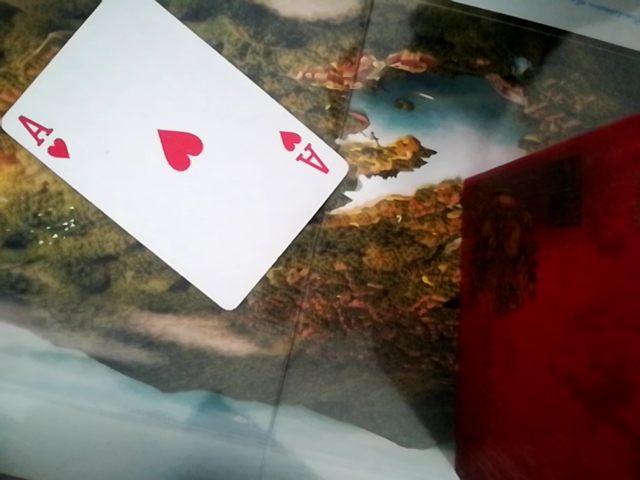hx a: (4, 4, 355, 312)
